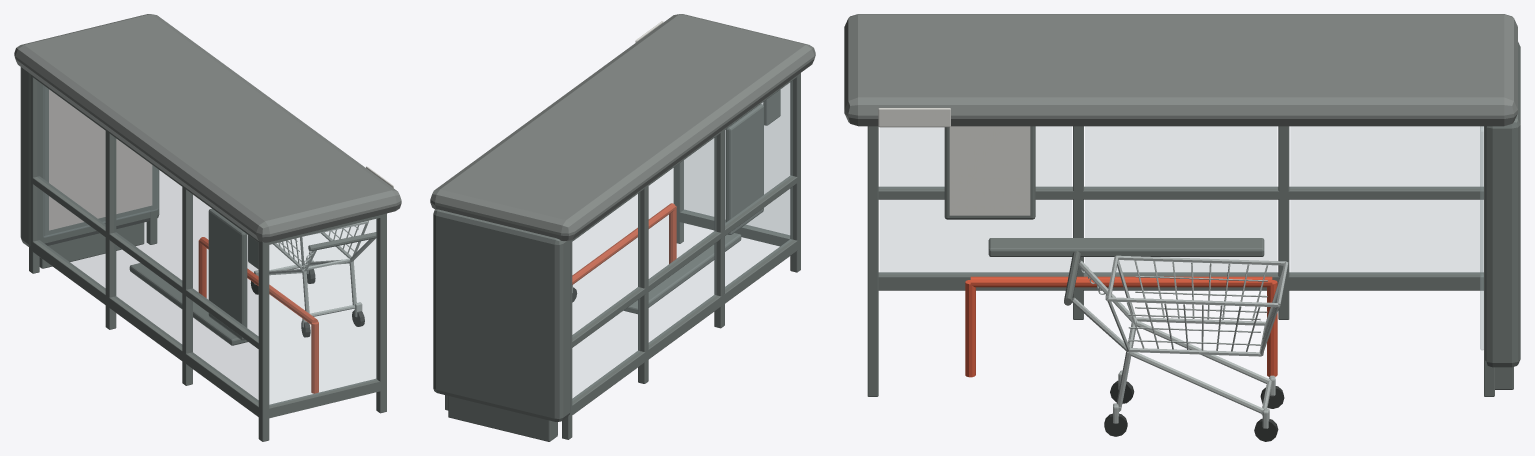
File: preston-busstop-reference.glb
The picture shows the model from 3 angles, left to right: view 1: azimuth 30°, elevation 25°; view 2: azimuth 150°, elevation 25°; view 3: azimuth 270°, elevation 25°; orthographic projection. The views are drawn at different scales.
Visible parts, largest first — view 1: BUSSTOP_Roof_Shell, BUSSTOP_Glass_Left, BUSSTOP_Frame, BUSSTOP_Glass_Rear01, BUSSTOP_Glass_Rear03, BUSSTOP_Glass_Rear02, BUSSTOP_Advert_DecalSurface, BUSSTOP_AdvertHousing_Outer, BUSSTOP_Timetable_Backplate, BUSSTOP_Frame_LeftFrontUpright, BUSSTOP_Frame_LeftBottomRail, BUSSTOP_AdvertHousing_Plinth (+9 smaller); view 2: BUSSTOP_Roof_Shell, BUSSTOP_AdvertHousing_Outer, BUSSTOP_Frame, BUSSTOP_Glass_Rear01, BUSSTOP_Glass_Rear03, BUSSTOP_Glass_Rear02, BUSSTOP_Glass_Left, BUSSTOP_Timetable_Backplate, BUSSTOP_AdvertHousing_Plinth, BUSSTOP_Bench_Perch, BUSSTOP_Frame_LeftBottomRail, BUSSTOP_BenchRail_Horizontal (+3 smaller); view 3: BUSSTOP_Roof_Shell, BUSSTOP_Glass_Rear03, BUSSTOP_Glass_Rear02, BUSSTOP_Frame, BUSSTOP_Glass_Rear01, BUSSTOP_AdvertHousing_Outer, BUSSTOP_Timetable_DecalSurface, TROLLEY_Basket, BUSSTOP_Bench_Perch, BUSSTOP_Frame_LeftFrontUpright, BUSSTOP_BenchRail_Horizontal, BUSSTOP_Timetable_Backplate (+6 smaller).
Boxes of the visible parts, x1,y1,x2,y2 form: BUSSTOP_Roof_Shell: (14,14,401,242); BUSSTOP_Glass_Left: (269,219,376,405); BUSSTOP_Frame: (29,74,269,441); BUSSTOP_Glass_Rear01: (190,193,258,401); BUSSTOP_Glass_Rear03: (37,81,105,289); BUSSTOP_Glass_Rear02: (114,137,181,346); BUSSTOP_Advert_DecalSurface: (49,89,152,230); BUSSTOP_AdvertHousing_Outer: (20,67,159,246); BUSSTOP_Timetable_Backplate: (208,209,247,340); BUSSTOP_Frame_LeftFrontUpright: (376,213,386,413); BUSSTOP_Frame_LeftBottomRail: (265,378,384,419); BUSSTOP_AdvertHousing_Plinth: (39,222,144,268); BUSSTOP_Roof_Shell: (430,14,815,241); BUSSTOP_AdvertHousing_Outer: (433,209,570,421); BUSSTOP_Frame: (562,73,800,439); BUSSTOP_Glass_Rear01: (725,81,792,288); BUSSTOP_Glass_Rear03: (572,193,639,400); BUSSTOP_Glass_Rear02: (649,137,716,344); BUSSTOP_Glass_Left: (683,83,789,235); BUSSTOP_Timetable_Backplate: (725,104,763,234); BUSSTOP_AdvertHousing_Plinth: (448,396,557,441); BUSSTOP_Bench_Perch: (623,233,741,314); BUSSTOP_Frame_LeftBottomRail: (676,209,790,246); BUSSTOP_BenchRail_Horizontal: (572,203,675,284); BUSSTOP_Roof_Shell: (844,14,1517,126); BUSSTOP_Glass_Rear03: (1290,126,1479,274); BUSSTOP_Glass_Rear02: (1085,126,1276,274); BUSSTOP_Frame: (878,126,1483,319); BUSSTOP_Glass_Rear01: (880,126,1071,274); BUSSTOP_AdvertHousing_Outer: (1485,42,1520,367); BUSSTOP_Timetable_DecalSurface: (949,126,1030,215); TROLLEY_Basket: (1106,255,1288,356); BUSSTOP_Bench_Perch: (988,238,1264,256); BUSSTOP_Frame_LeftFrontUpright: (867,126,878,396); BUSSTOP_BenchRail_Horizontal: (970,276,1272,287); BUSSTOP_Timetable_Backplate: (944,126,1035,219).
Size of the model in its own units: 2.56 by 2.55 by 5.2.
